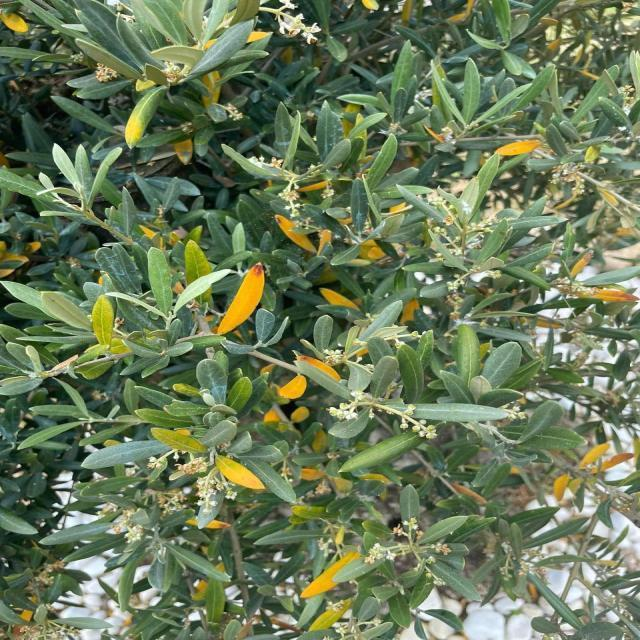OlivePeacockSpot: (216, 262, 265, 334), (301, 552, 360, 598), (125, 86, 167, 149), (216, 457, 265, 490), (275, 214, 316, 253), (152, 428, 206, 454), (92, 295, 115, 346), (578, 290, 639, 302), (278, 376, 306, 400), (494, 140, 536, 156), (0, 13, 26, 33)
